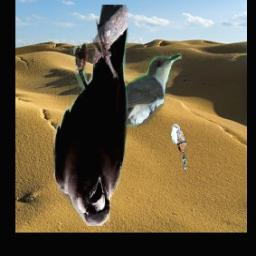Crow: (54, 5, 129, 226)
Cuckoo: (108, 53, 183, 146), (172, 124, 187, 175)
